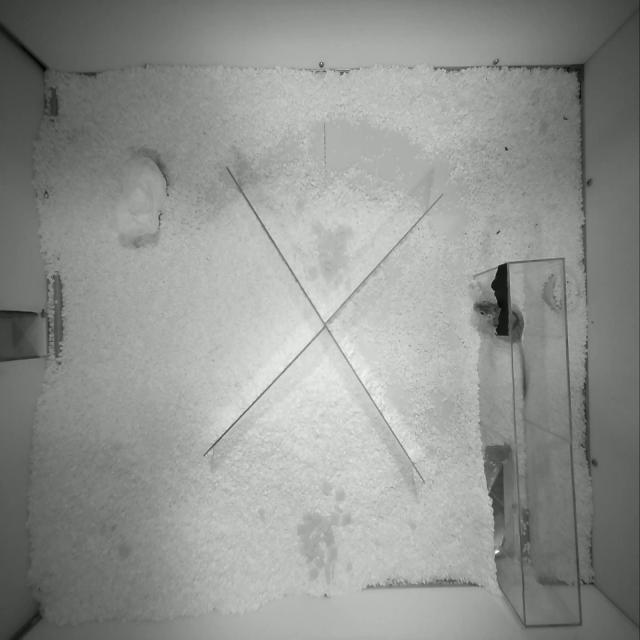adult_front: (508, 308, 526, 400), (474, 302, 500, 327)
